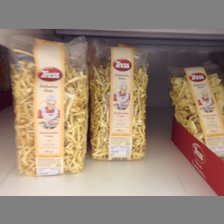pasta: (7, 33, 89, 177), (89, 38, 149, 161), (169, 60, 224, 156)
